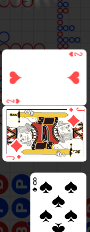2H: (5, 98, 21, 105)
6C: (31, 176, 38, 194)
